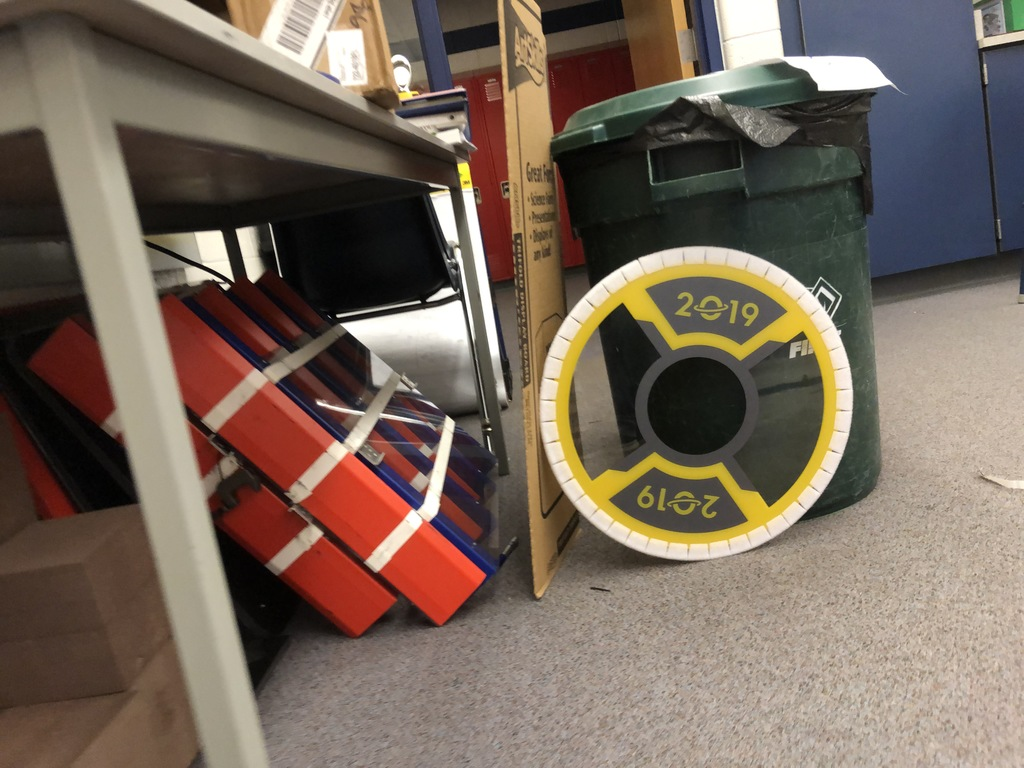hatch_panel: (515, 228, 858, 585)
